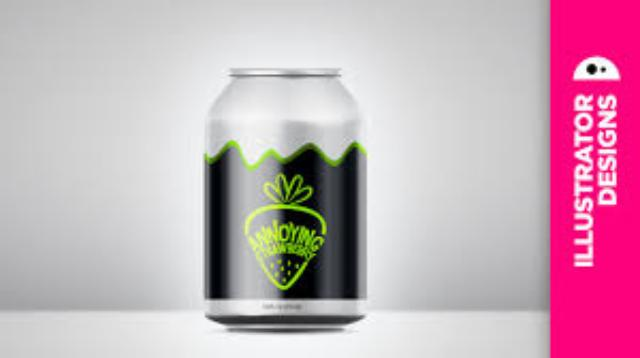metal: (205, 68, 363, 320)
